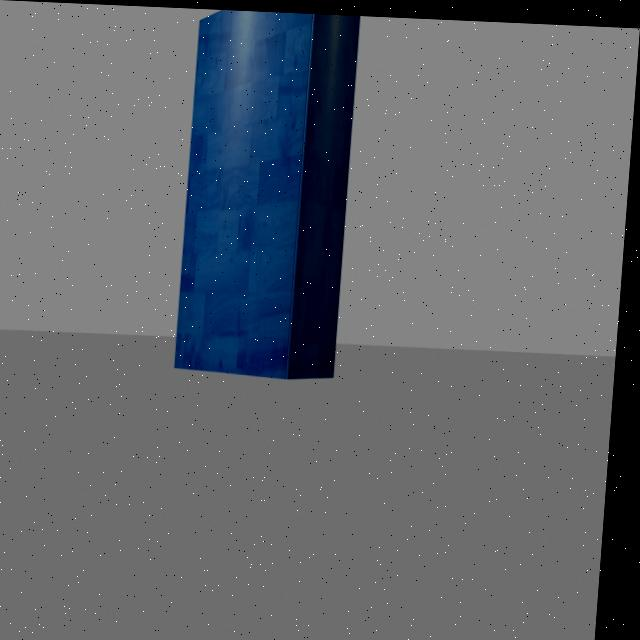shelf: (171, 7, 370, 402)
